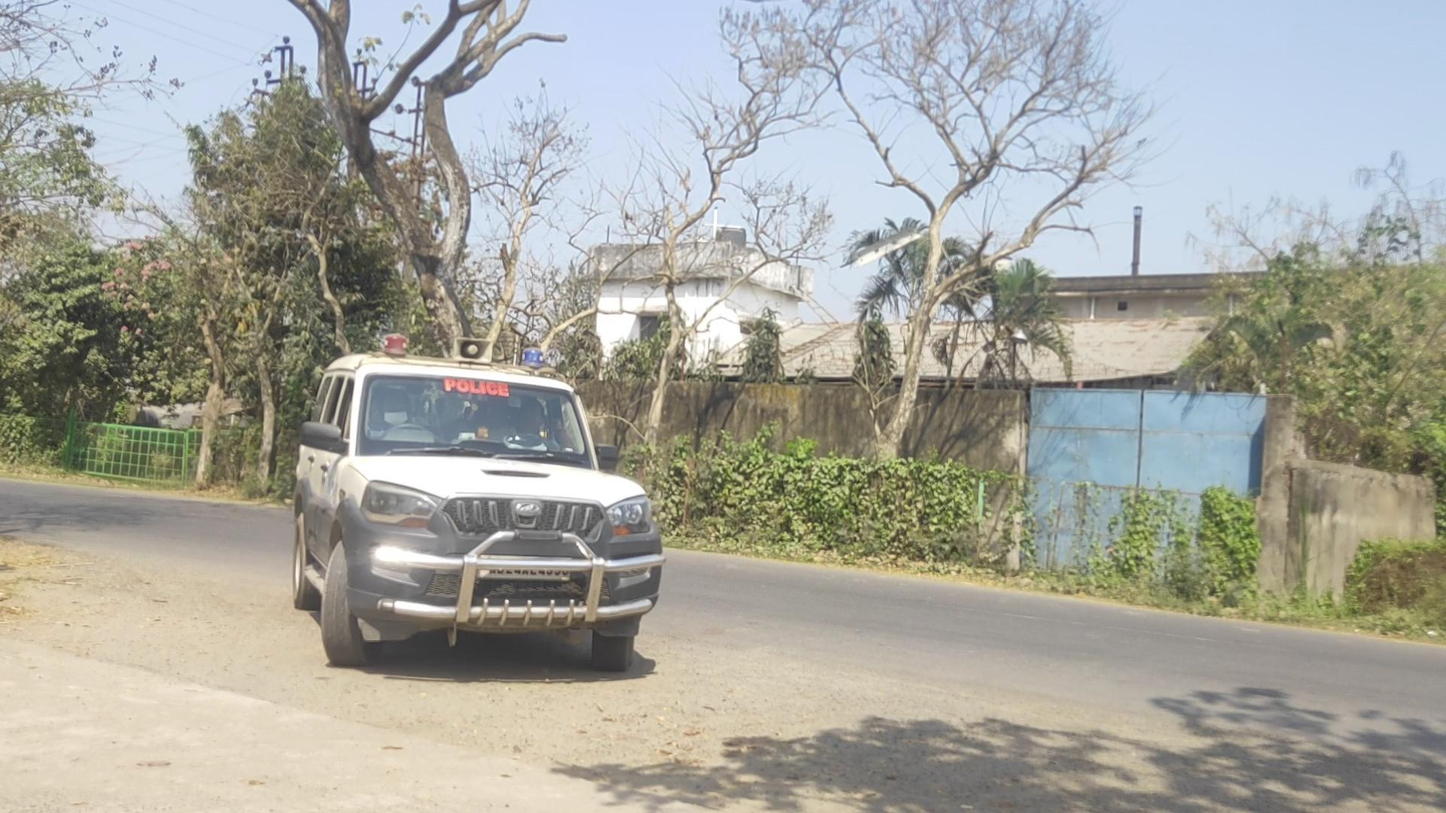car: (292, 333, 667, 671)
